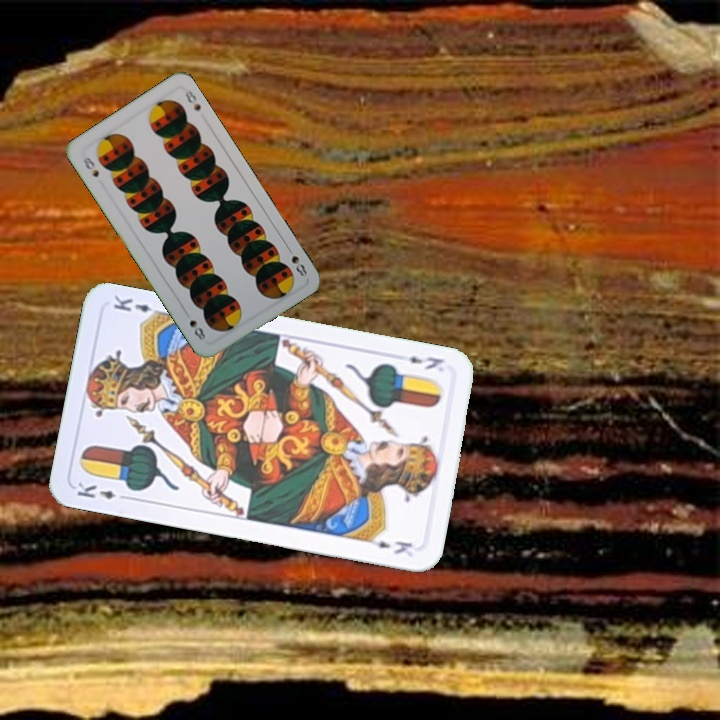EK: (73, 477, 132, 503), (405, 352, 446, 373)
S8: (282, 242, 310, 280), (79, 153, 102, 180)
